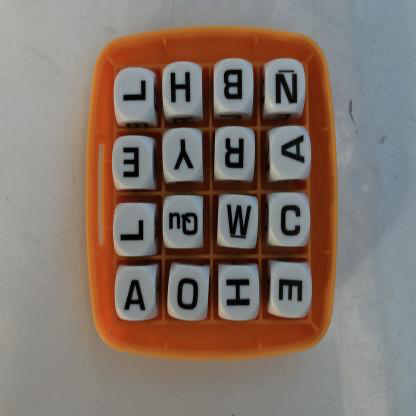a: (115, 266, 156, 322), (271, 127, 311, 180)
b: (214, 58, 254, 112)
c: (269, 194, 311, 247)
e: (271, 260, 313, 318), (113, 137, 151, 190)
h: (219, 264, 260, 321), (163, 62, 204, 115)
l: (113, 204, 154, 258), (116, 68, 156, 121)
n: (265, 59, 306, 111)
o: (169, 264, 209, 321)
qu: (163, 196, 204, 250)
r: (215, 128, 256, 182)
w: (218, 195, 259, 250)
y: (165, 130, 205, 184)
